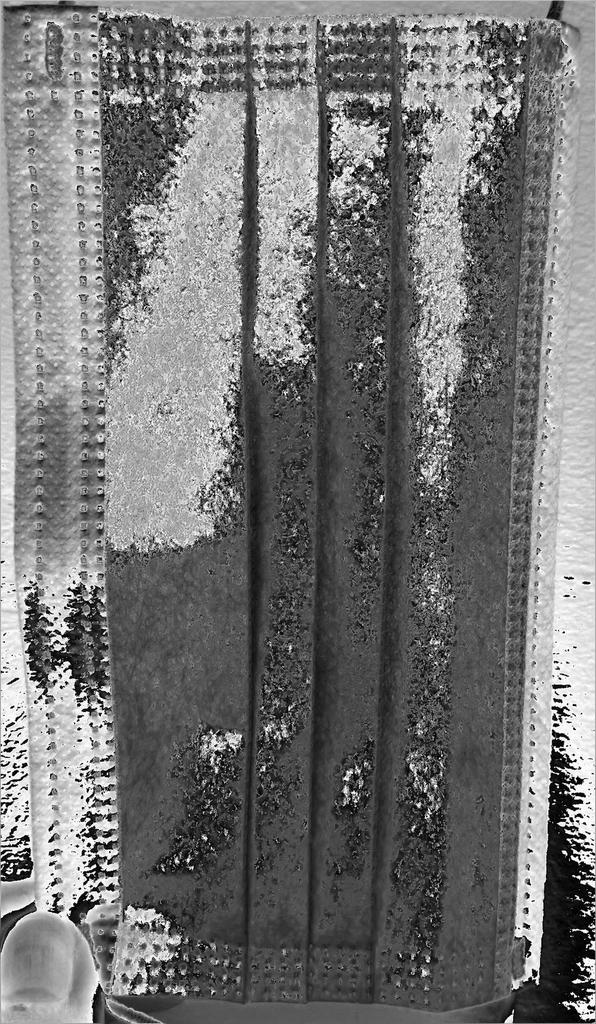Low GSM: (91, 83, 525, 943)
